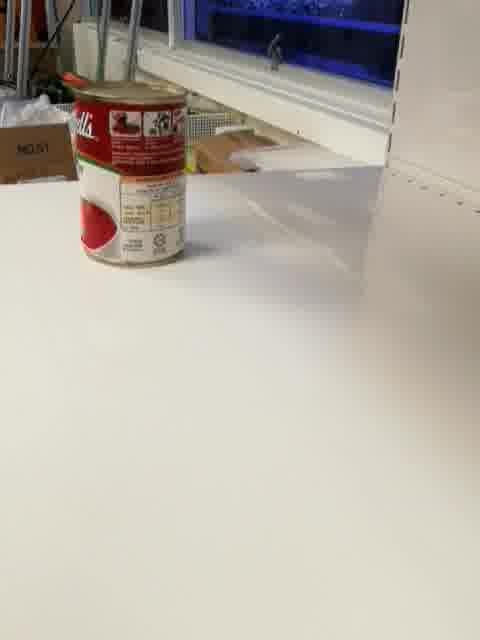tomatosoup: (68, 78, 192, 269)
